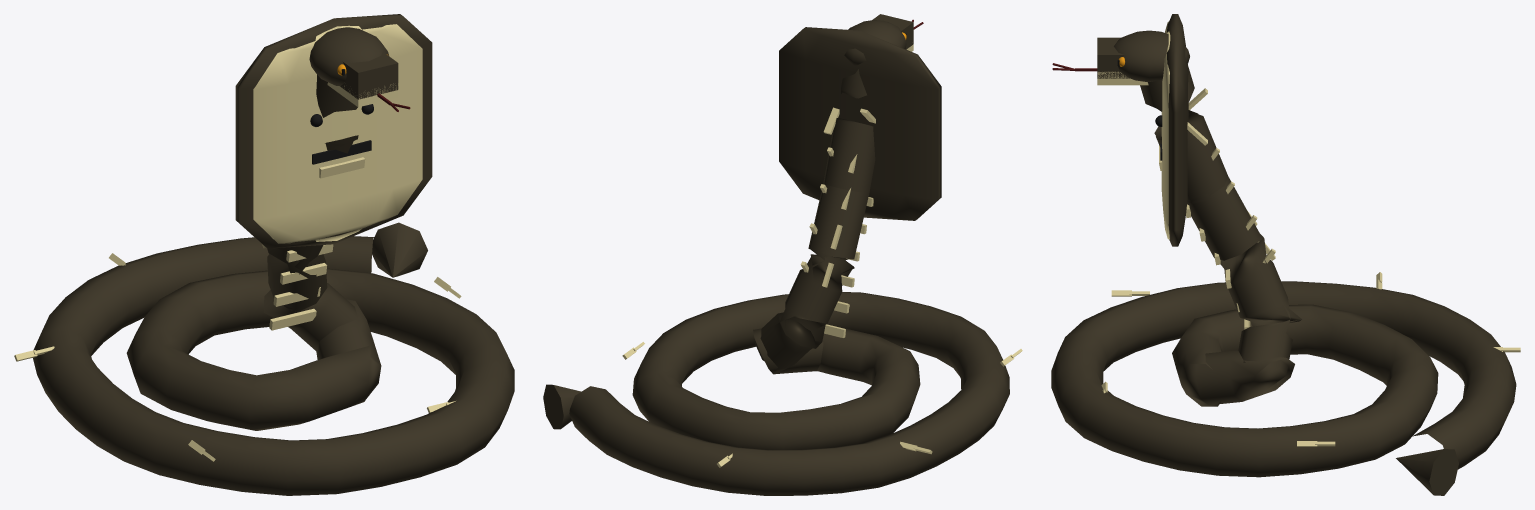
Rendered from king-cobra.glb.
3 views of the same model, side by side, from view 1: azimuth 30°, elevation 25°; view 2: azimuth 150°, elevation 25°; view 3: azimuth 270°, elevation 25° (orthographic). The views are drawn at different scales.
Visible parts, largest first — view 1: Mesh_BodyPipe, Mesh_HoodBelly, Mesh_HoodBase, Mesh_HeadBack, Mesh_TailTip, Mesh_HeadSnout, Mesh_ThroatBand, Mesh_HeadLowerJaw, Mesh_Ventral_0; view 2: Mesh_BodyPipe, Mesh_HoodBase, Mesh_TailTip, Mesh_HeadBack; view 3: Mesh_BodyPipe, Mesh_HoodBase, Mesh_HeadBack, Mesh_TailTip, Mesh_HoodBelly, Mesh_HeadSnout, Mesh_HeadLowerJaw.
Part boxes in pixels (<box>): Mesh_BodyPipe: <box>33,74,514,495</box>; Mesh_HoodBelly: <box>253,24,422,243</box>; Mesh_HoodBase: <box>235,14,432,248</box>; Mesh_HeadBack: <box>309,27,388,85</box>; Mesh_TailTip: <box>372,222,427,277</box>; Mesh_HeadSnout: <box>340,52,398,99</box>; Mesh_ThroatBand: <box>312,140,371,164</box>; Mesh_HeadLowerJaw: <box>327,82,398,107</box>; Mesh_Ventral_0: <box>269,308,316,330</box>; Mesh_BodyPipe: <box>569,69,1009,495</box>; Mesh_HoodBase: <box>779,27,941,220</box>; Mesh_TailTip: <box>543,384,580,429</box>; Mesh_HeadBack: <box>844,20,906,65</box>; Mesh_BodyPipe: <box>1051,65,1516,477</box>; Mesh_HoodBase: <box>1166,14,1188,246</box>; Mesh_HeadBack: <box>1114,30,1189,82</box>; Mesh_TailTip: <box>1396,449,1458,495</box>; Mesh_HoodBelly: <box>1161,21,1170,239</box>; Mesh_HeadSnout: <box>1097,37,1129,78</box>; Mesh_HeadLowerJaw: <box>1097,71,1148,85</box>.
Bounding box in the file's own units: 1.2 × 1.11 × 1.27.
